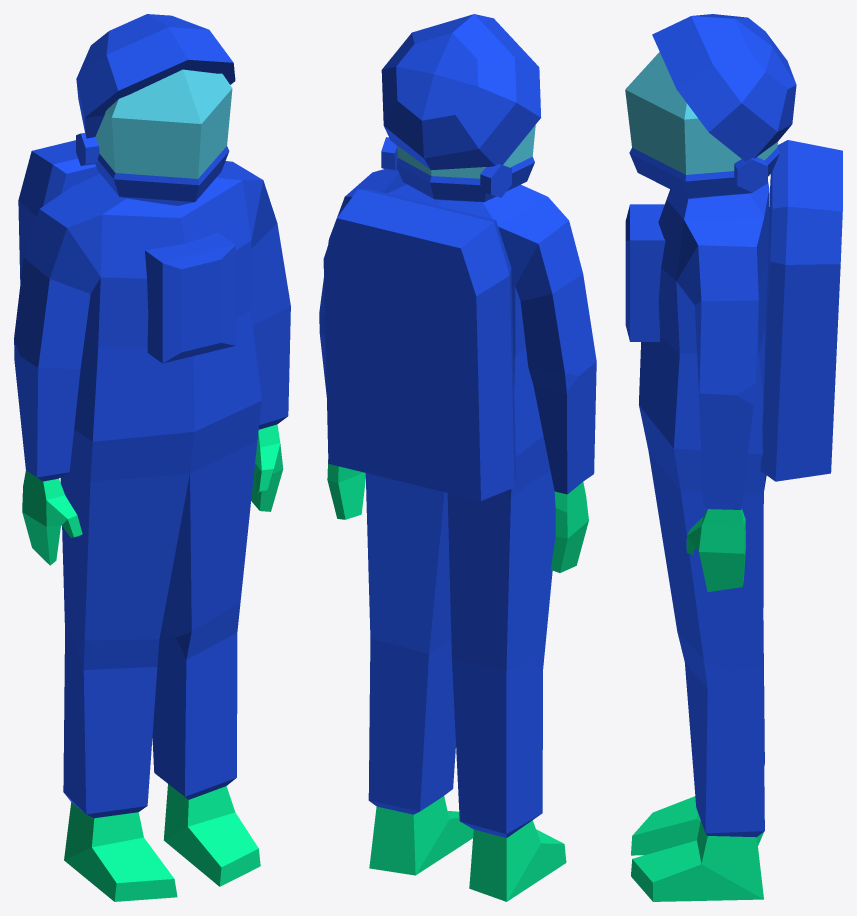
Rendered from 036_Astronaut.fbx.
3 views of the same model, side by side, from view 1: azimuth 30°, elevation 25°; view 2: azimuth 150°, elevation 25°; view 3: azimuth 270°, elevation 25° (orthographic).
Visible parts, largest first — view 1: ASTRONAUT; view 2: ASTRONAUT; view 3: ASTRONAUT.
Boxes of the visible parts, x1,y1,x2,y2 form: ASTRONAUT: (14, 14, 290, 901); ASTRONAUT: (319, 14, 596, 901); ASTRONAUT: (625, 14, 842, 901).
Bounding box in the file's own units: 33.01 × 105 × 24.39.
